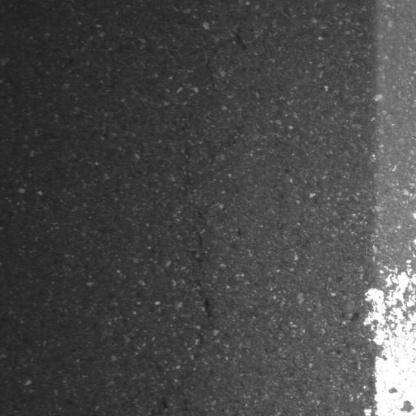Cracks: (181, 38, 239, 184), (194, 234, 214, 350), (125, 398, 171, 416)
